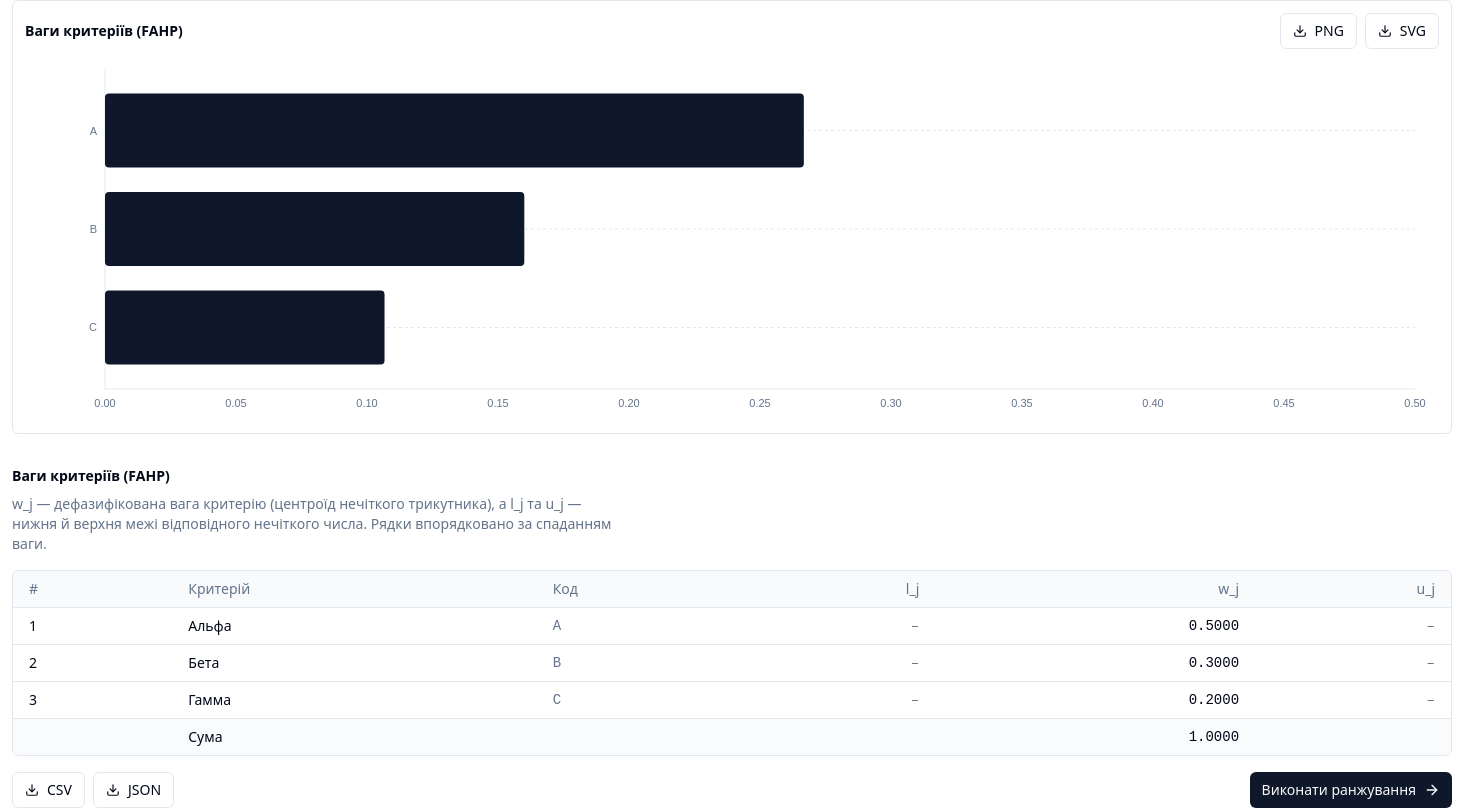
it: WeightsSection › reveals the held ranking when «Виконати ранжування» is clicked
What coordinates should you click on to do the following:
click the button "Виконати ранжування"
I would click on:
 (1351, 790)
Its box is x1=1250 y1=772 x2=1452 y2=808.
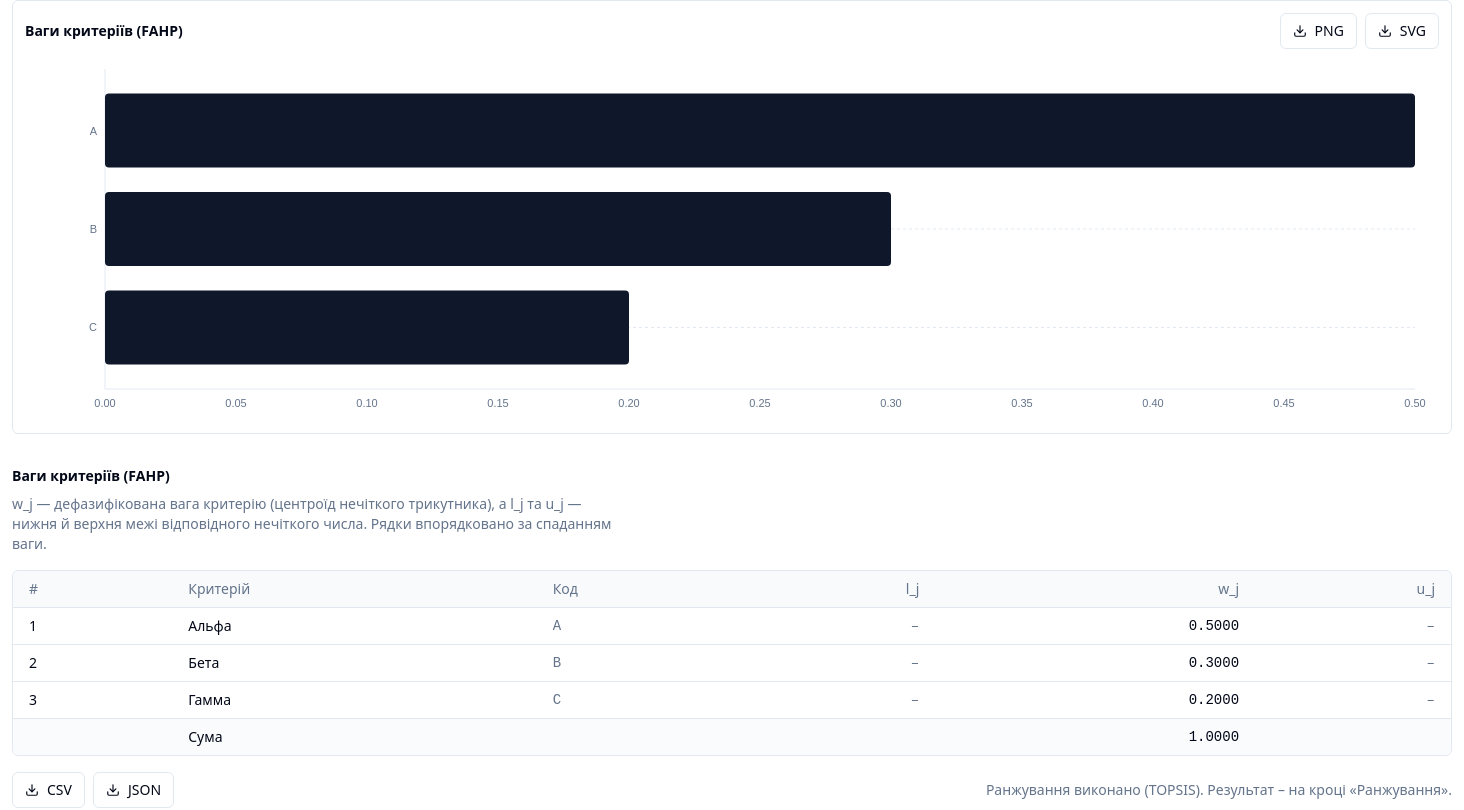
Check: the button "Виконати ранжування" is gone
